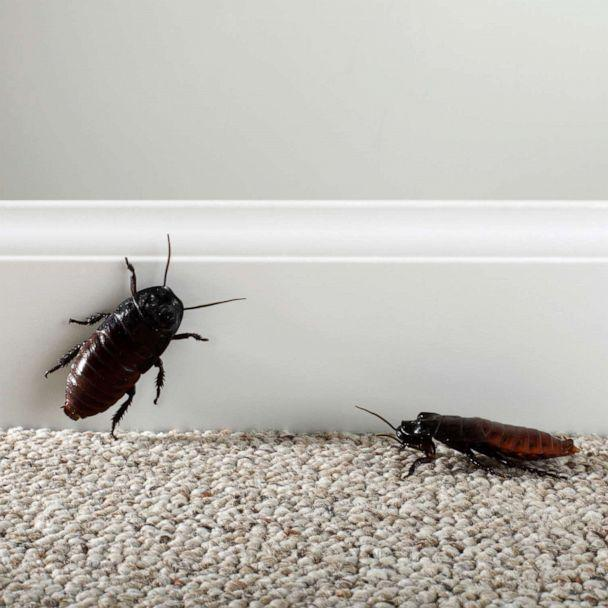cockroach: (52, 280, 190, 424), (390, 408, 584, 475)
